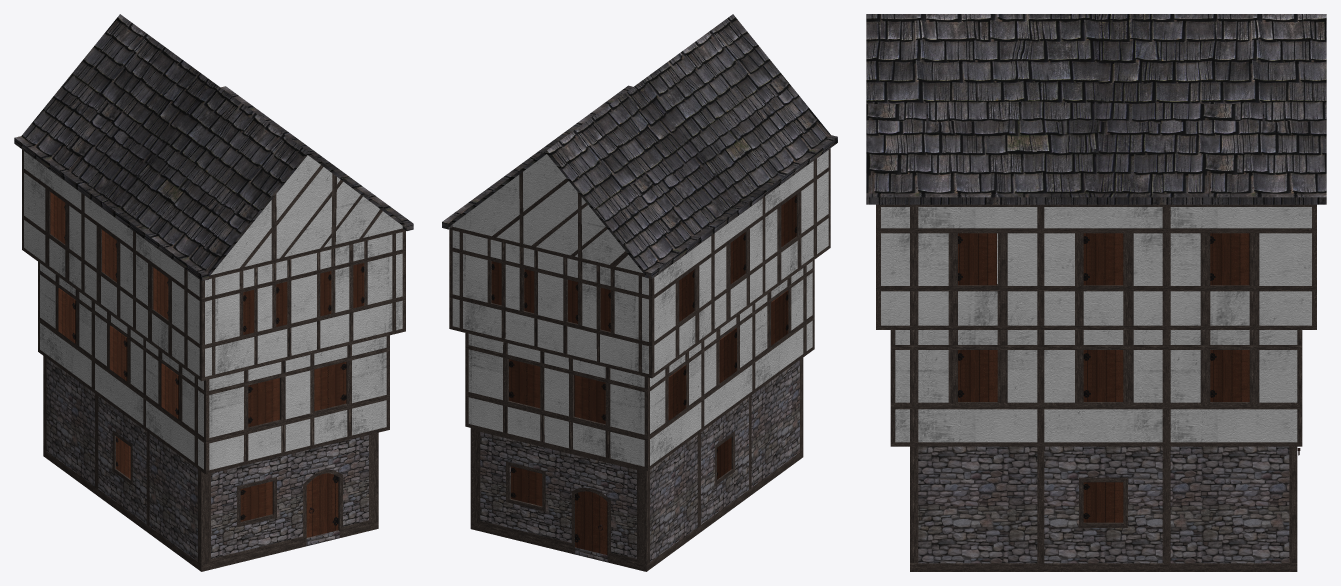
Rendered from Medhouse8.FBX.
The picture shows the model from 3 angles, left to right: view 1: azimuth 30°, elevation 25°; view 2: azimuth 150°, elevation 25°; view 3: azimuth 270°, elevation 25°; orthographic projection. The views are drawn at different scales.
Parts seen in each view (by area): view 1: Plane01; view 2: Plane01; view 3: Plane01.
Part boxes in pixels (x1,y1,x2,y2): Plane01: (14, 14, 413, 571); Plane01: (442, 14, 837, 571); Plane01: (866, 14, 1326, 571).
Size of the model in its own units: 243 by 374 by 453.
Materials: 6 (6 with a texture image).
